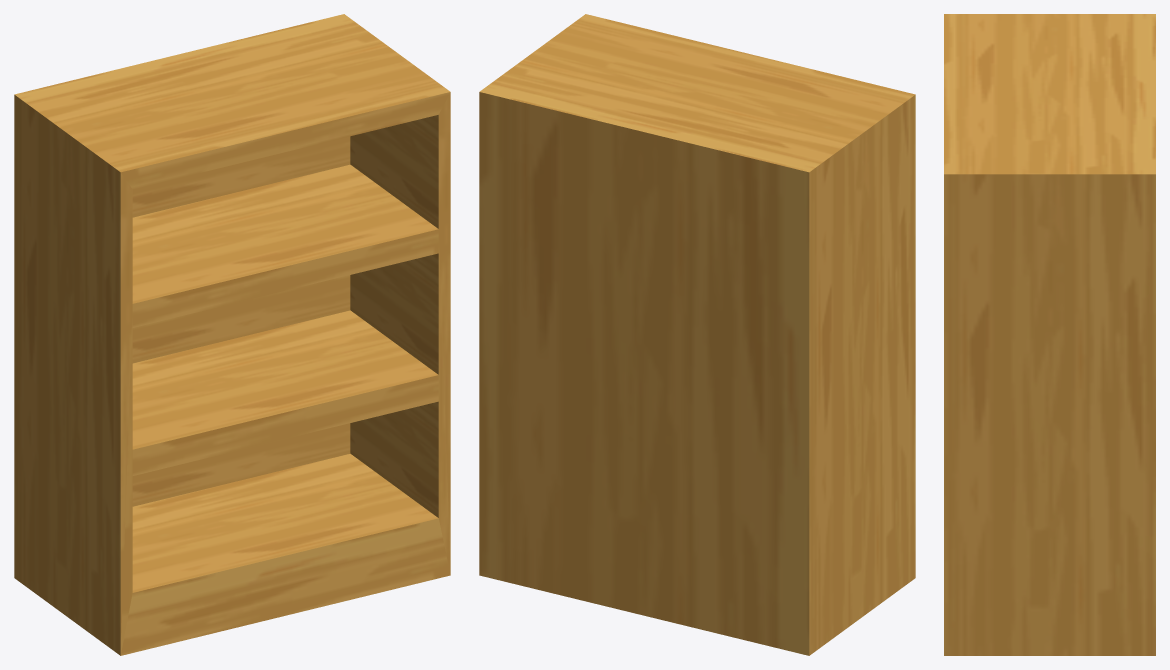
Rendered from Bookcase.fbx.
3 views of the same model, side by side, from view 1: azimuth 30°, elevation 25°; view 2: azimuth 150°, elevation 25°; view 3: azimuth 270°, elevation 25° (orthographic).
Parts seen in each view (by area): view 1: Bookcase_01; view 2: Bookcase_01; view 3: Bookcase_01.
Part boxes in pixels (x1=…): Bookcase_01: x1=14, y1=14, x2=450, y2=655; Bookcase_01: x1=479, y1=14, x2=915, y2=655; Bookcase_01: x1=944, y1=14, x2=1155, y2=655.
Size of the model in its own units: 108 by 151 by 60.09.
